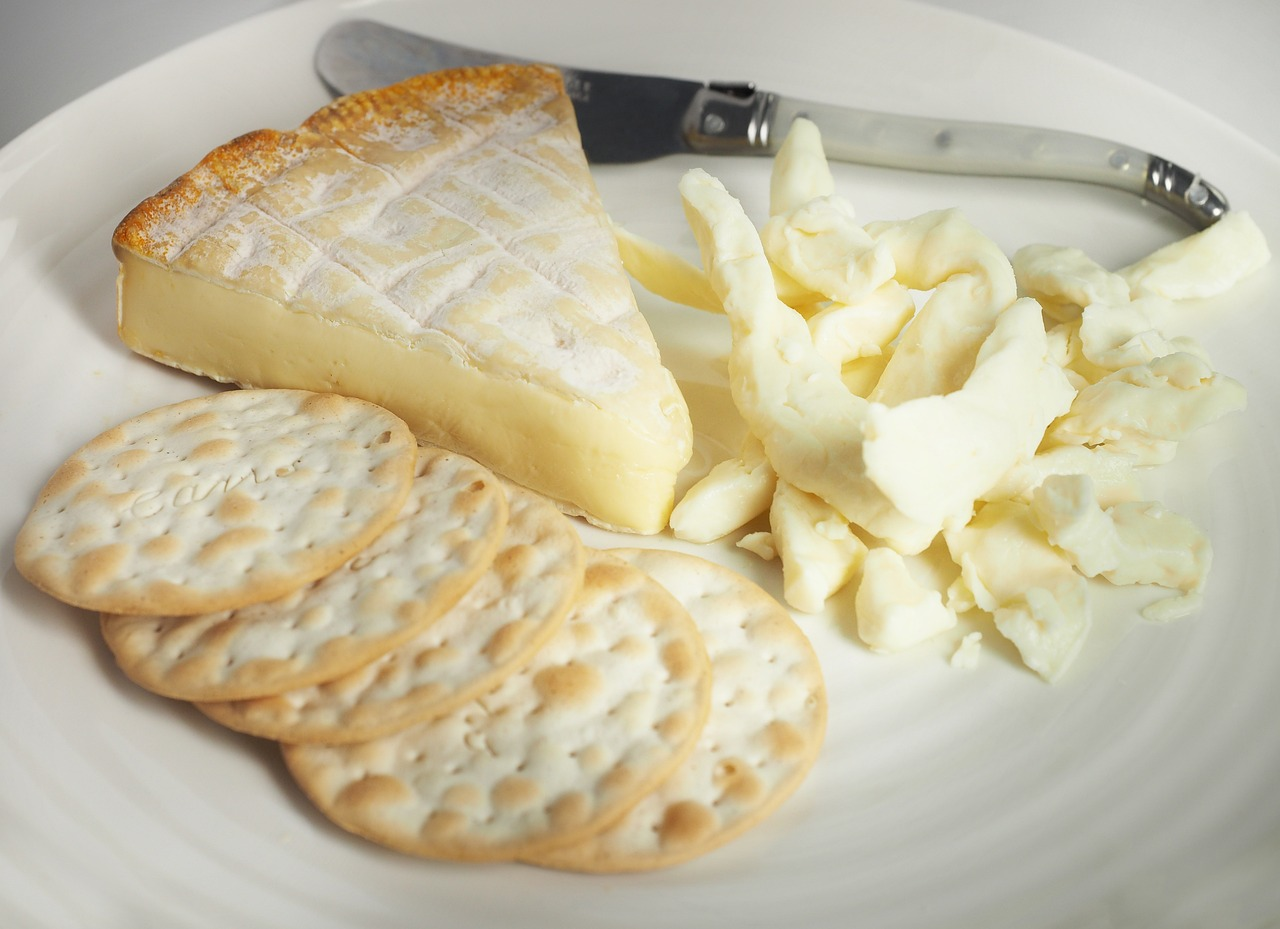knife: (298, 7, 1249, 234)
